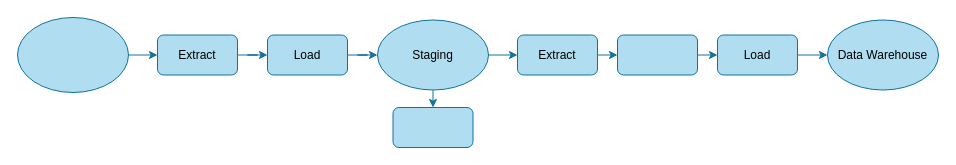
Image size: 956x165. Some labels were removed from this diagram. The centre of each missing label's shape, as x and y in pixels:
"Data Profiling" goes at pixel 432 127.
"Sources: - API - CSV - DB" goes at pixel 72 54.
"Transform" goes at pixel 657 54.
